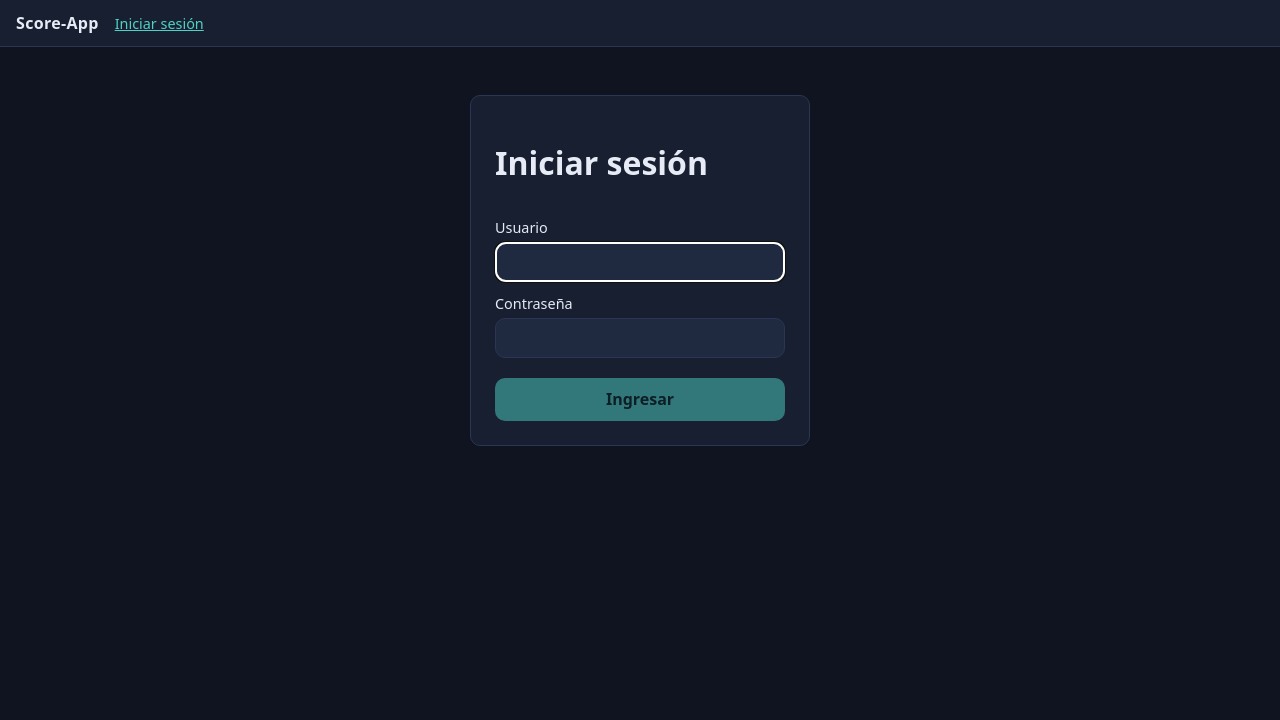
it: Torneo Admin — dashboard scoped por torneo › permite crear una nueva edición sin salir del dashboard y navega a ella
This screenshot has width=1280, height=720.
Type "torneo_admin_test" into the field labelled "Usuario".
click(640, 262); type("torneo_admin_test")  # box [495,242,785,282]
Type "clave12345" into the password field labelled "Contraseña".
click(640, 338); type("clave12345")  # box [495,318,785,358]
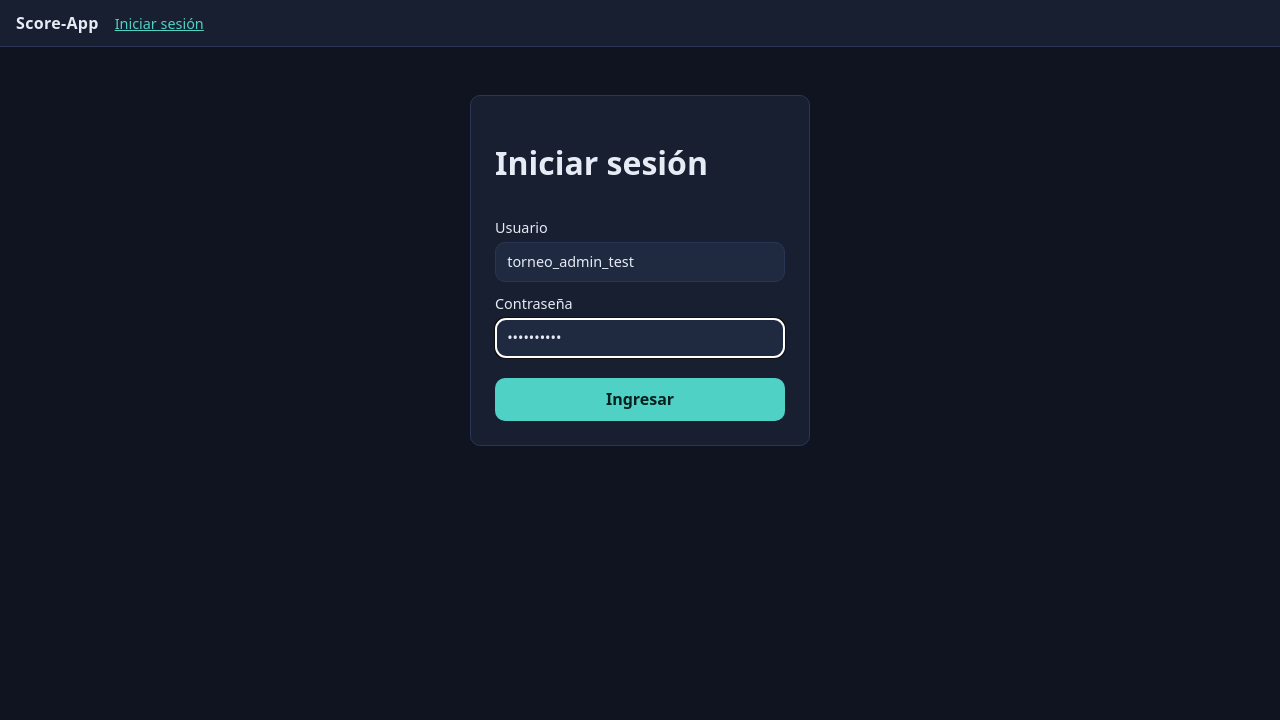
Click the button "Ingresar".
click(640, 399)  # box [495,378,785,421]
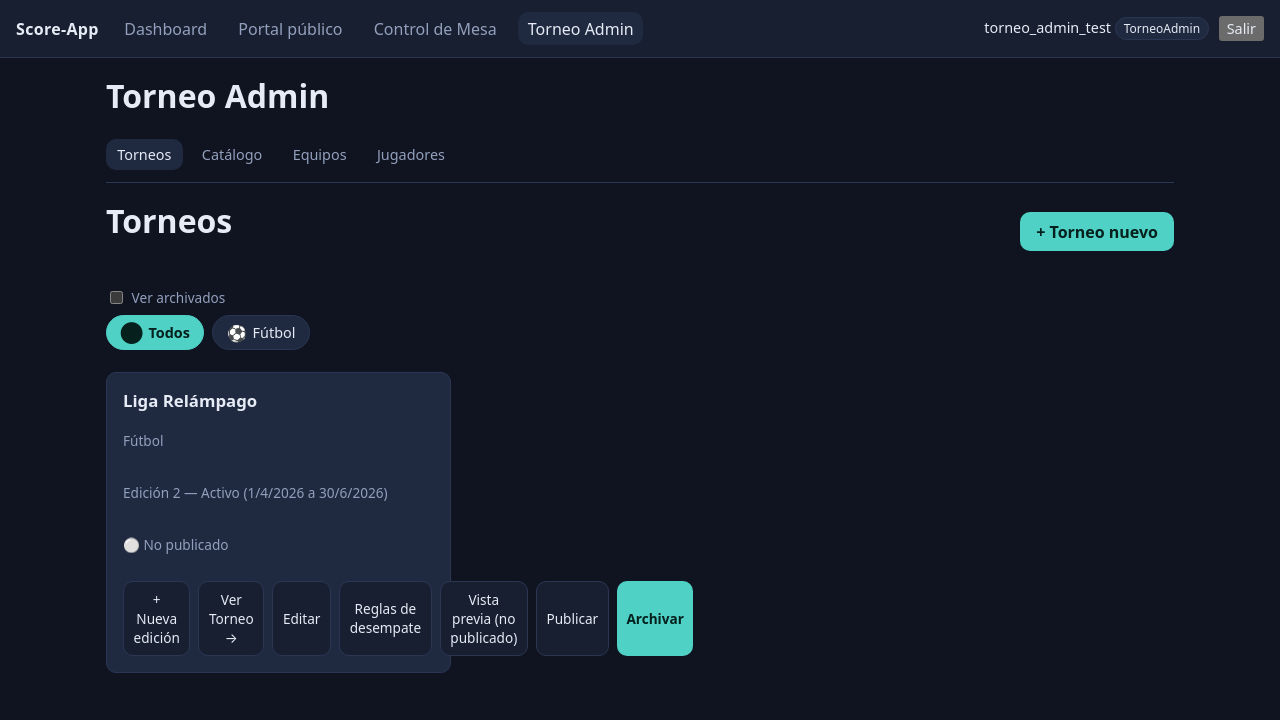
Result: the heading "Liga Relámpago" is shown at [123,389,257,412]
Click the button "Ver Torneo →".
click(231, 618)  # box [198,581,264,656]
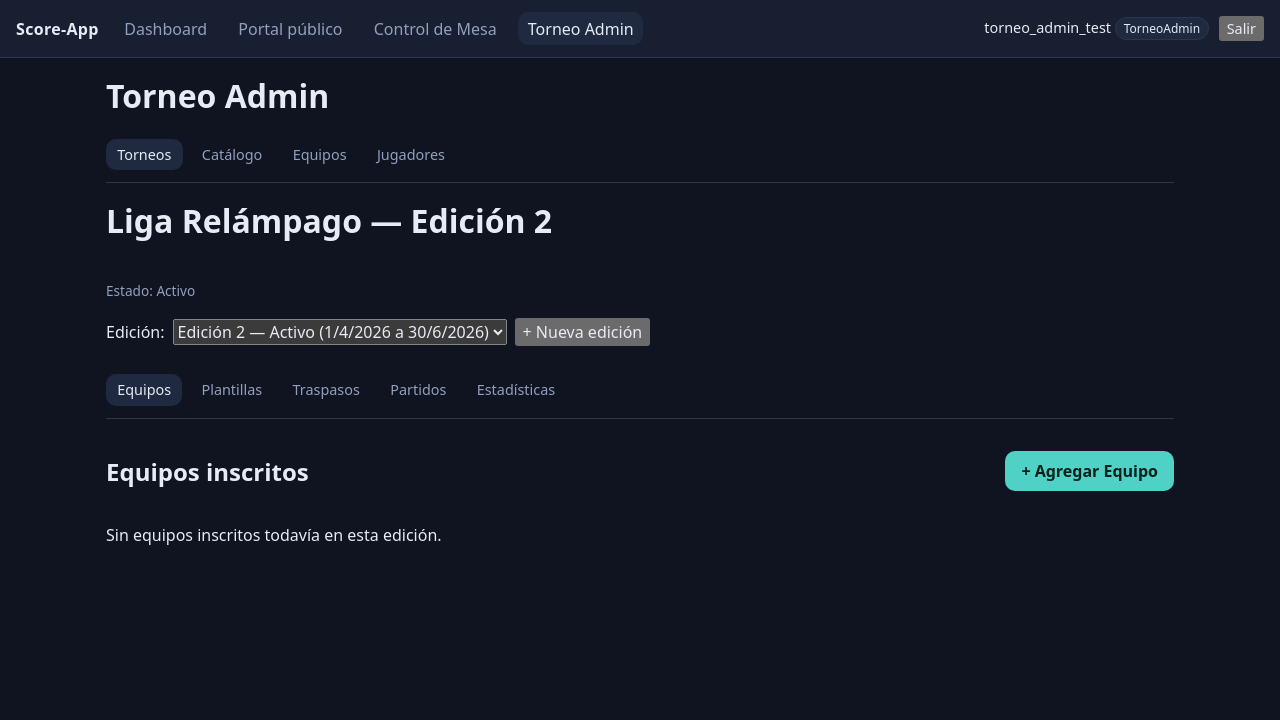
Result: the heading "Liga Relámpago — Edición 2" is shown at [106,199,552,242]
Click the button "+ Nueva edición".
click(582, 332)  # box [514,318,650,346]
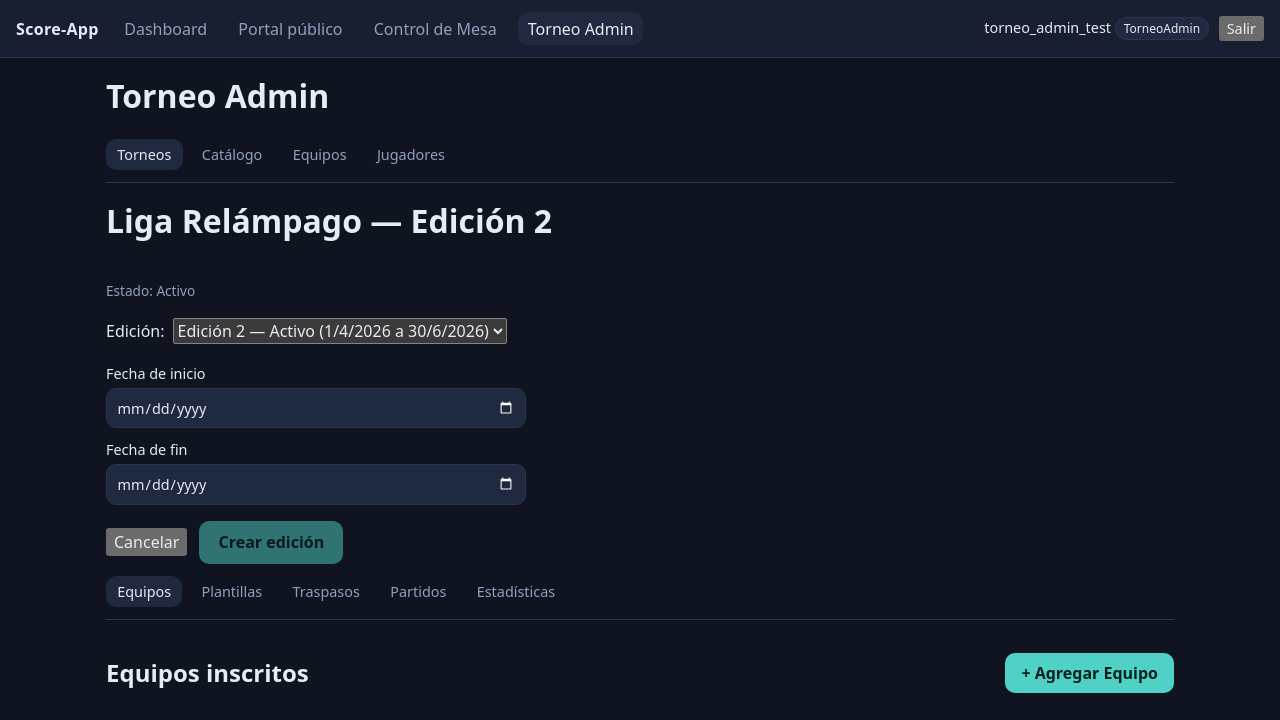
Type "2026-07-01" into the date field labelled "Fecha de inicio".
click(316, 408); type("2026-07-01")  # box [106,388,526,428]
Type "2026-09-30" into the date field labelled "Fecha de fin".
click(316, 484); type("2026-09-30")  # box [106,464,526,505]
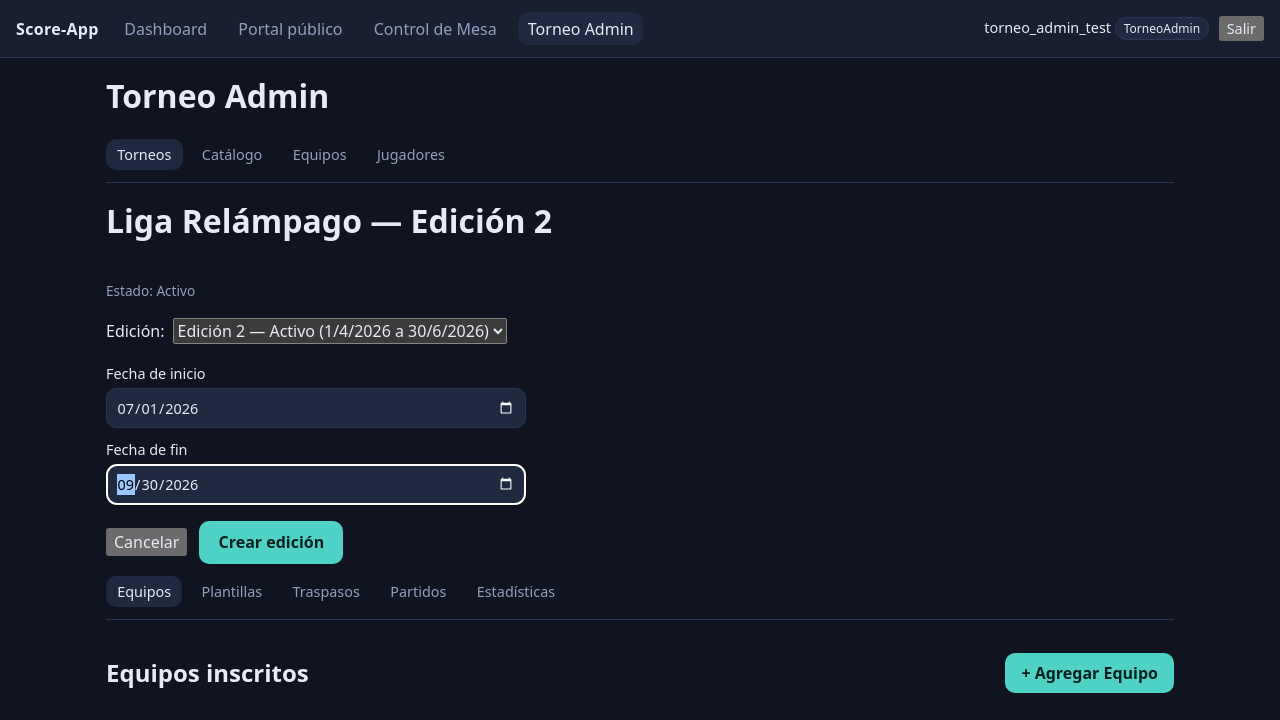
Click the button "Crear edición".
click(271, 542)  # box [199,521,343,564]
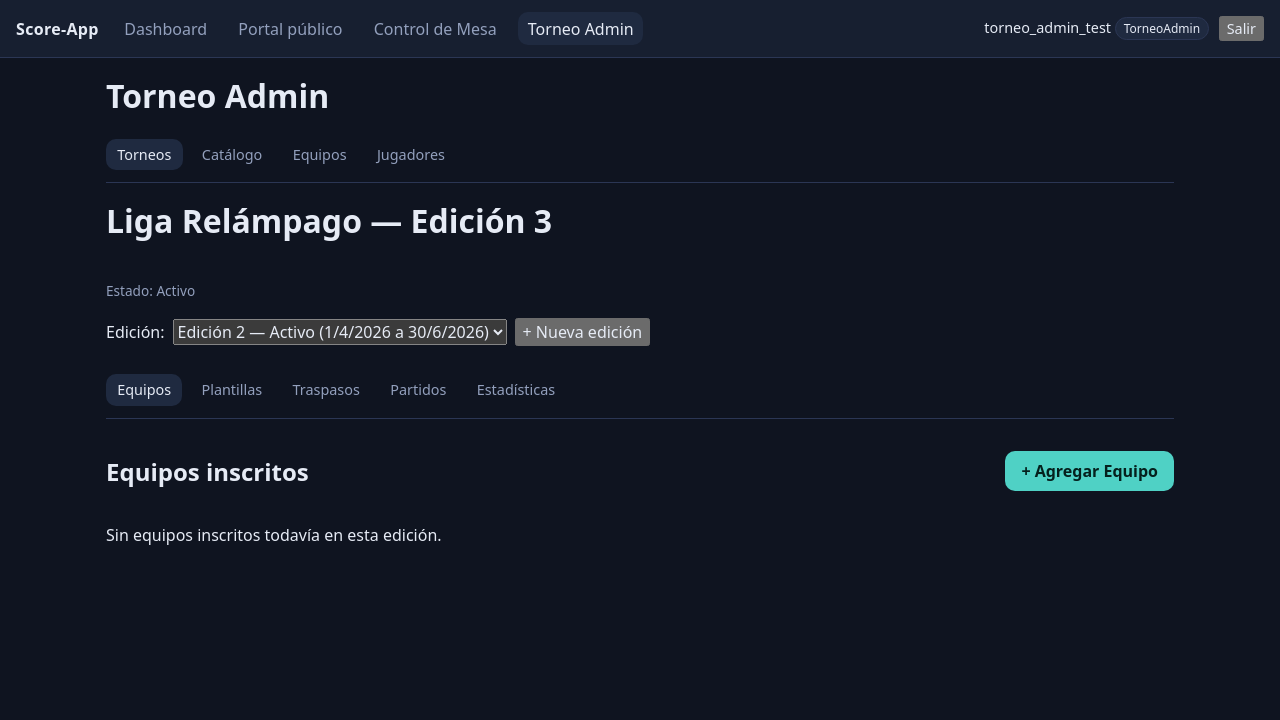
Result: the heading "Equipos inscritos" is shown at [106,455,309,488]
Result: the heading "Liga Relámpago — Edición 3" is shown at [106,199,552,242]
